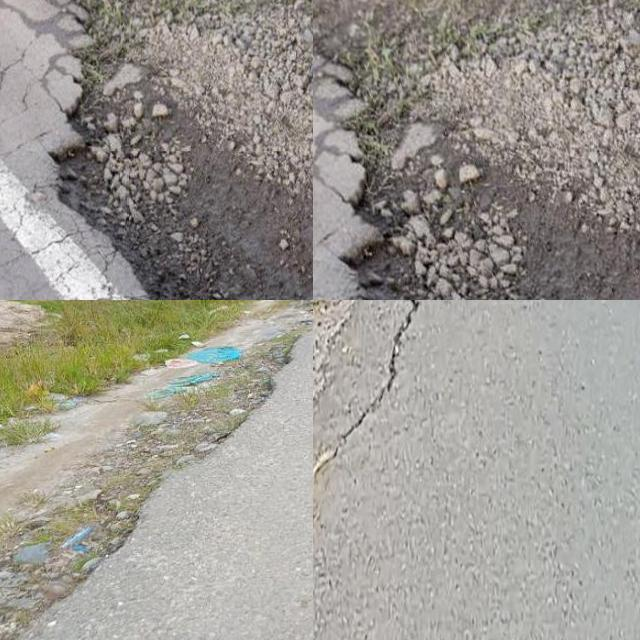Memanjang: (313, 300, 427, 494)
Pinggir: (0, 300, 313, 640), (342, 55, 640, 300), (65, 18, 313, 300)
